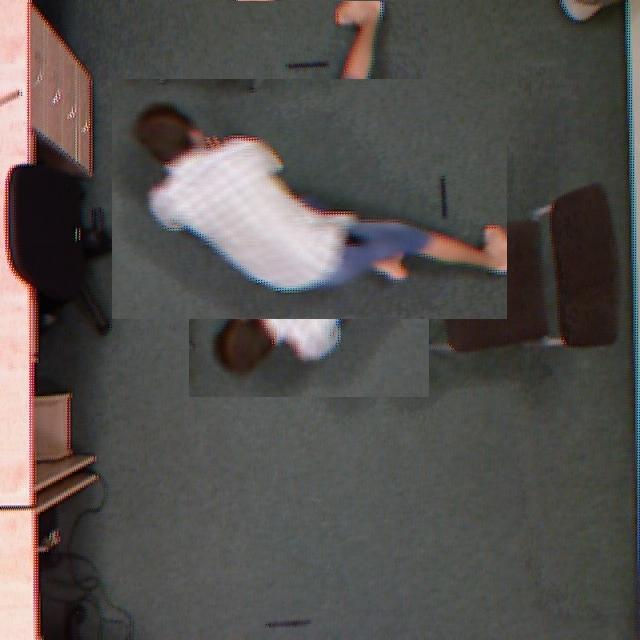Fall: (115, 92, 521, 304)
